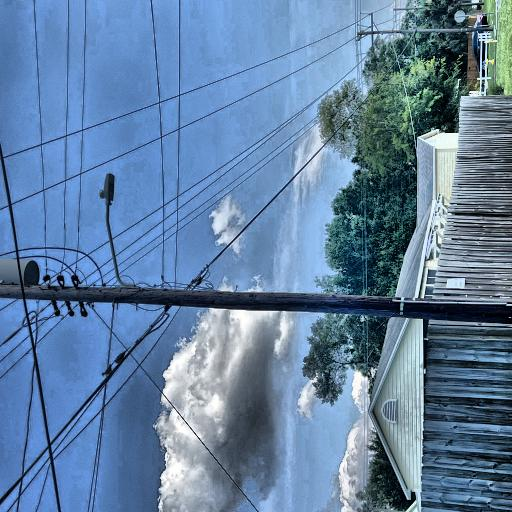insulator: (24, 15, 33, 27)
pole: (60, 0, 126, 512)
street light: (96, 223, 203, 271)
transformer: (94, 86, 128, 158)
